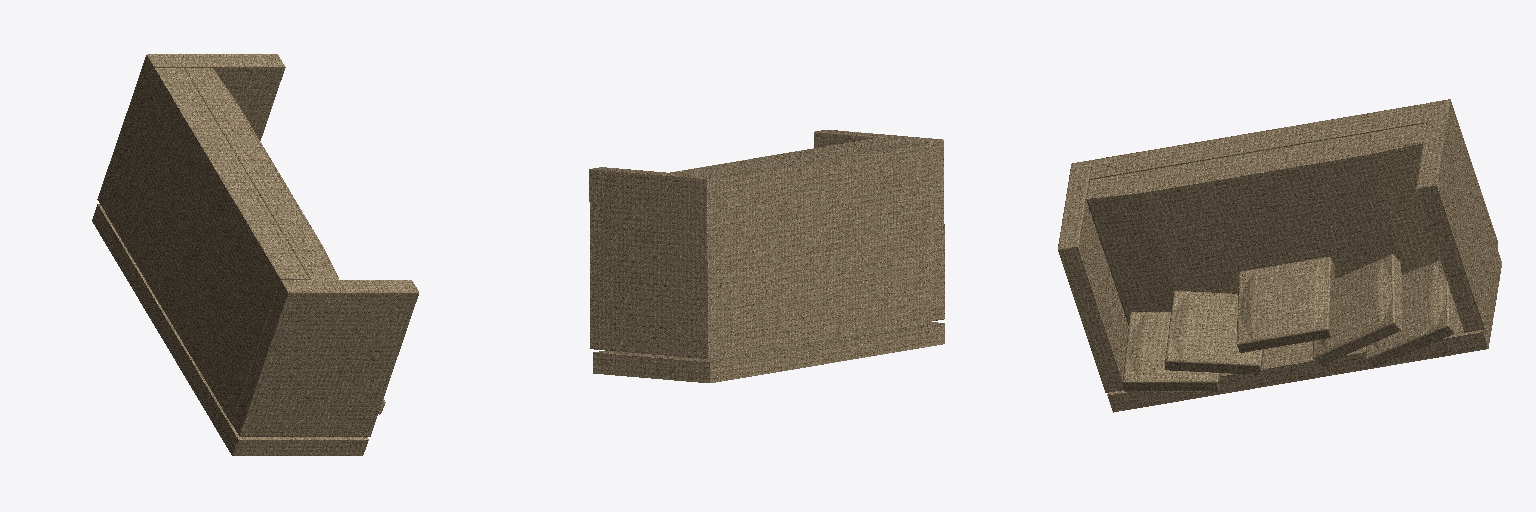
3 renders of one model, left to right at view 1: azimuth 30°, elevation 25°; view 2: azimuth 150°, elevation 25°; view 3: azimuth 270°, elevation 25°, orthographic.
Visible parts, largest first — view 1: Object.6, Object.13, Object.11, Object.1, Object.9, Object.10; view 2: Object.6, Object.9, Object.10, Object.11, Object.13, Object.1; view 3: Object.1, Object.13, Object.12, Object.11, Object.6, Object.2, Object.3, Object.9, Object.10, Object.4, Object.5.
Boxes of the visible parts, box(x1,y1,x2,y2) form: Object.6: box(105, 68, 309, 423); Object.13: box(232, 280, 418, 436); Object.11: box(92, 204, 368, 455); Object.1: box(185, 68, 338, 279); Object.9: box(97, 54, 285, 210); Object.10: box(98, 55, 282, 208); Object.6: box(697, 140, 931, 356); Object.9: box(589, 167, 720, 358); Object.10: box(591, 167, 719, 357); Object.11: box(593, 322, 944, 382); Object.13: box(814, 130, 944, 320); Object.1: box(670, 138, 900, 174); Object.1: box(1086, 123, 1439, 325); Object.13: box(1058, 160, 1128, 392); Object.12: box(1237, 257, 1334, 352); Object.11: box(1107, 250, 1501, 412); Object.6: box(1089, 103, 1429, 179); Object.2: box(1165, 291, 1263, 374); Object.3: box(1313, 254, 1401, 365); Object.9: box(1416, 99, 1497, 332); Object.10: box(1418, 100, 1487, 330); Object.4: box(1366, 260, 1455, 366); Object.5: box(1123, 312, 1220, 391).
Size of the model in its own units: 18081212 by 24983136 by 34687416.
Materials: 13 (1 with a texture image).